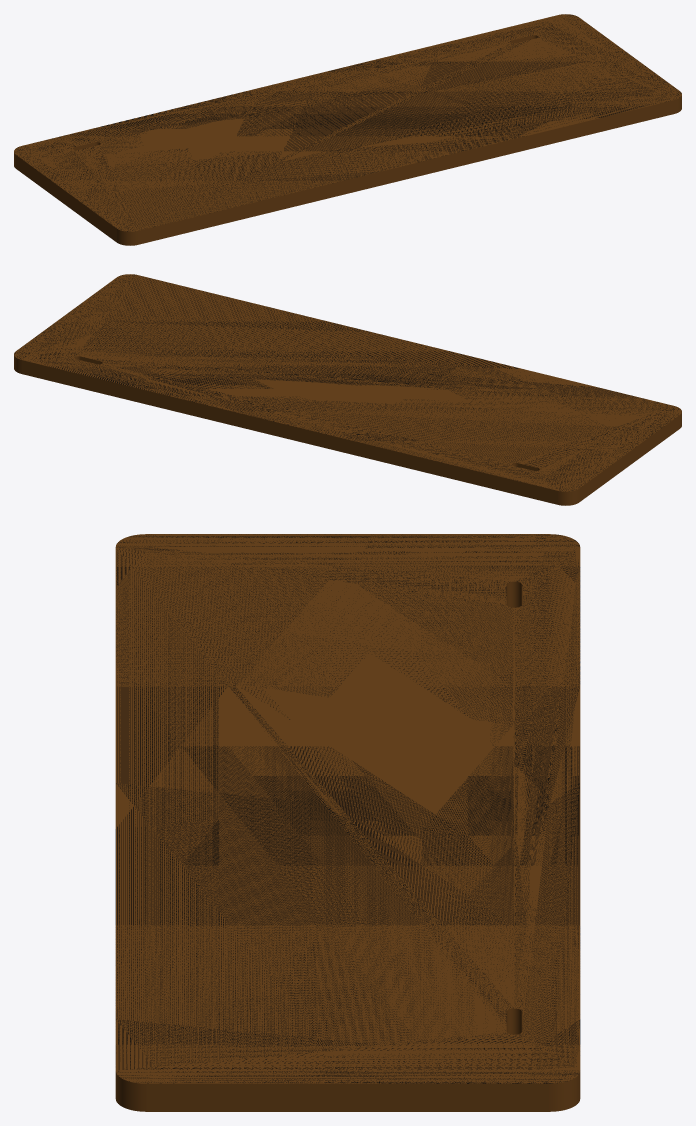
File: original-34.obj
The picture shows the model from 3 angles, top to bottom: view 1: azimuth 30°, elevation 25°; view 2: azimuth 150°, elevation 25°; view 3: azimuth 270°, elevation 25°; orthographic projection. The views are drawn at different scales.
Parts seen in each view (by area): view 1: Component_124_1/Component_124/mesh75/mesh75-geometry#mesh75-geom; view 2: Component_124_1/Component_124/mesh75/mesh75-geometry#mesh75-geom; view 3: Component_124_1/Component_124/mesh75/mesh75-geometry#mesh75-geom.
Part boxes in pixels (x1,y1,x2,y2): Component_124_1/Component_124/mesh75/mesh75-geometry#mesh75-geom: (14,14,681,245); Component_124_1/Component_124/mesh75/mesh75-geometry#mesh75-geom: (14,274,681,505); Component_124_1/Component_124/mesh75/mesh75-geometry#mesh75-geom: (115,534,580,1111).
Size of the model in its own units: 1.76 by 0.042 by 0.6301.
